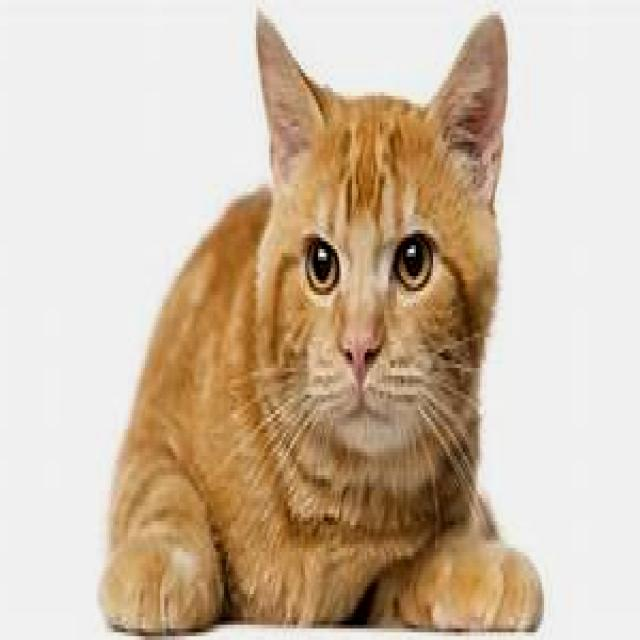KEDI: (92, 12, 544, 634)
